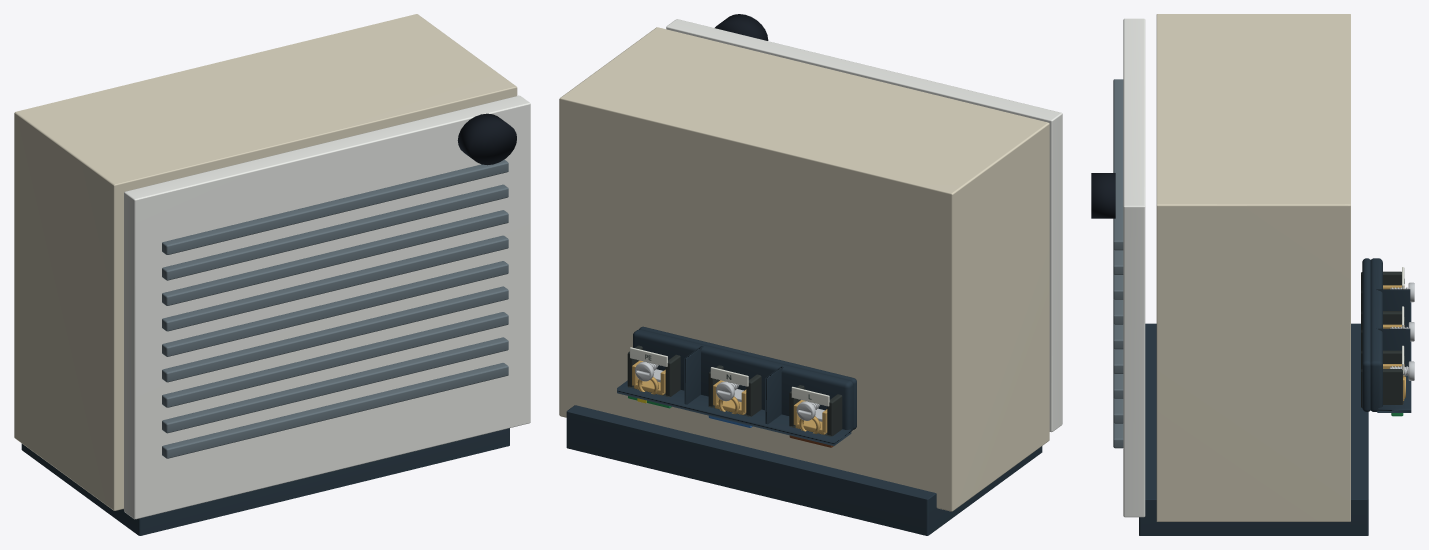
The model's file is heater_storage.glb.
3 renders of one model, left to right at view 1: azimuth 30°, elevation 25°; view 2: azimuth 150°, elevation 25°; view 3: azimuth 270°, elevation 25°, orthographic. The views are drawn at different scales.
Visible parts, largest first — view 1: part:cover, part:body, part:cover · Original 0905ee26, part:body.001; view 2: part:body, part:terminals · Original a463fd81, part:cover, detail:terminal-clamp:N · Detail moulded engineering polymer, detail:terminal-clamp:L · Detail moulded engineering polymer, detail:terminal-clamp:PE · Detail moulded engineering polyme, part:body.001, detail:terminal-clamp:L · Detail machined brass; view 3: part:body, part:cover, part:terminals · Original a463fd81, part:cover · Original 0905ee26, part:body.001, detail:terminal-clamp:PE · Detail moulded engineering polyme.
Part boxes in pixels (box(x1,y1,x2,y2)): part:cover: box(124, 95, 530, 519); part:body: box(14, 14, 517, 535); part:cover · Original 0905ee26: box(162, 159, 508, 458); part:body.001: box(457, 113, 516, 165); part:body: box(559, 27, 1049, 535); part:terminals · Original a463fd81: box(617, 326, 856, 445); part:cover: box(666, 19, 1062, 432); detail:terminal-clamp:N · Detail moulded engineering polymer: box(708, 365, 761, 416); detail:terminal-clamp:L · Detail moulded engineering polymer: box(789, 385, 842, 436); detail:terminal-clamp:PE · Detail moulded engineering polyme: box(627, 345, 680, 396); part:body.001: box(715, 14, 768, 40); detail:terminal-clamp:L · Detail machined brass: box(793, 400, 827, 434); part:body: box(1139, 14, 1368, 535); part:cover: box(1123, 18, 1145, 517); part:terminals · Original a463fd81: box(1362, 258, 1411, 412); part:cover · Original 0905ee26: box(1113, 79, 1123, 448); part:body.001: box(1091, 173, 1115, 218); detail:terminal-clamp:PE · Detail moulded engineering polyme: box(1361, 350, 1403, 407).
Size of the model in its own units: 1.21 by 0.9997 by 0.8602.
